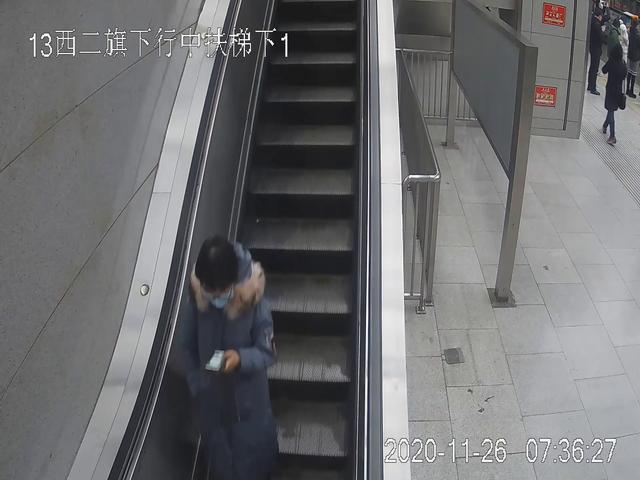person: (181, 235, 278, 479), (602, 42, 626, 145), (587, 9, 602, 96)
